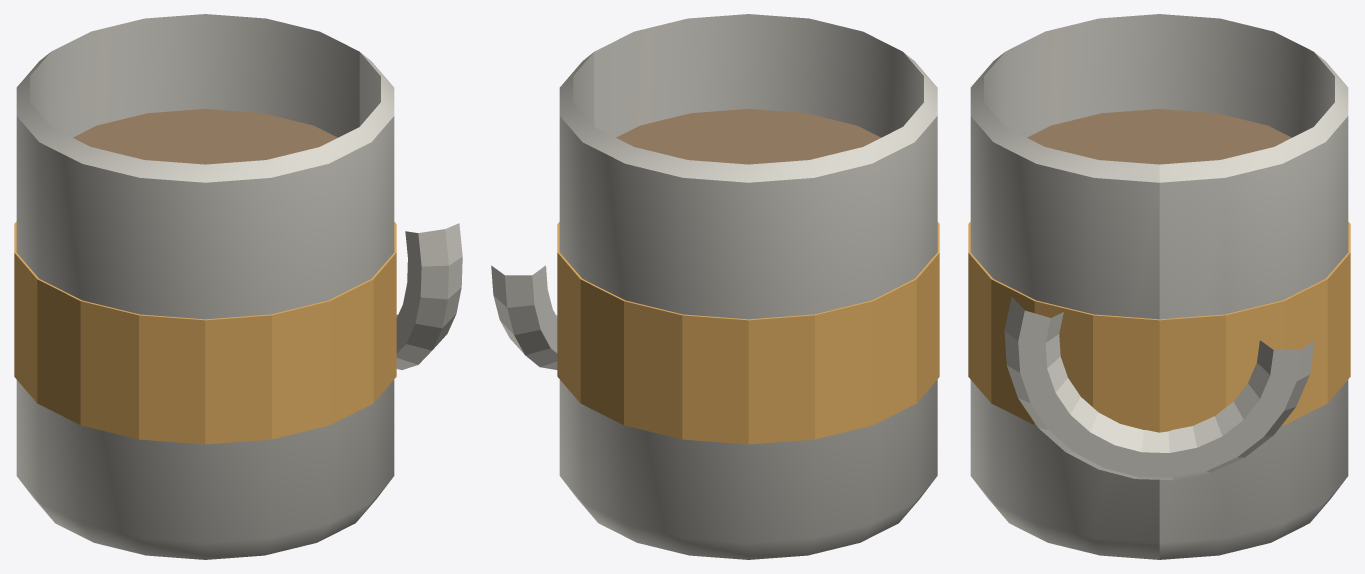
File: taza.glb
3 views of the same model, side by side, from view 1: azimuth 30°, elevation 25°; view 2: azimuth 150°, elevation 25°; view 3: azimuth 270°, elevation 25° (orthographic).
Visible parts, largest first — view 1: coffee-mug; view 2: coffee-mug; view 3: coffee-mug.
Part boxes in pixels (x1,y1,x2,y2): coffee-mug: (14, 14, 462, 559); coffee-mug: (491, 14, 939, 559); coffee-mug: (968, 14, 1350, 559).
Bounding box in the file's own units: 0.0897 × 0.096 × 0.0837.
